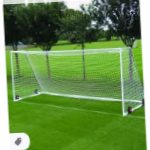goals: (9, 46, 144, 116)
